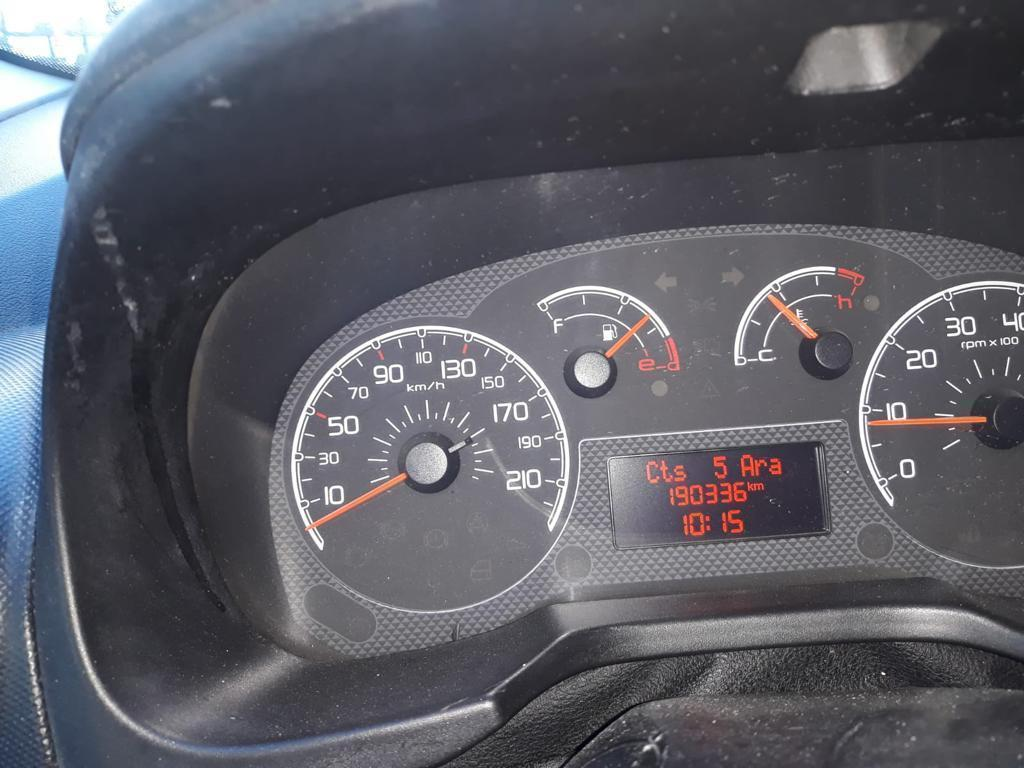0: (687, 510, 704, 537), (689, 484, 703, 506)
1: (679, 512, 688, 536), (719, 509, 727, 535), (666, 486, 675, 507)
3: (704, 482, 719, 505), (719, 480, 732, 504)
5: (727, 507, 744, 534), (710, 454, 728, 479)
6: (732, 480, 747, 502)
9: (675, 484, 688, 507)
X: (738, 451, 754, 478), (645, 459, 659, 484), (660, 459, 673, 484), (767, 456, 782, 475), (673, 463, 687, 482), (754, 456, 766, 477), (704, 513, 711, 532), (754, 481, 764, 491), (746, 479, 753, 492)
odometer: (603, 439, 834, 553)
